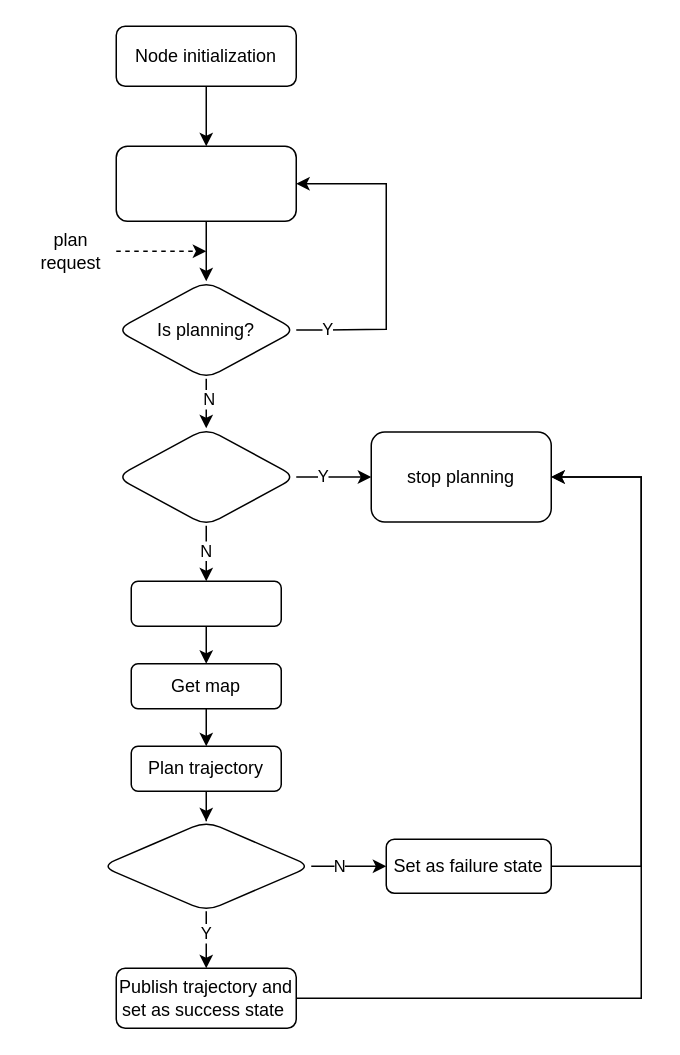
Some shapes in this 680 by 1055 pixel diagram are drawn without their labels. Here are the shapes that lost their labels. From the top down, the centre of each, then its label:
(205,183): Waiting for trajectory plan request
(205,476): Conceled?
(205,603): Request map
(205,865): Is trajectory valid
